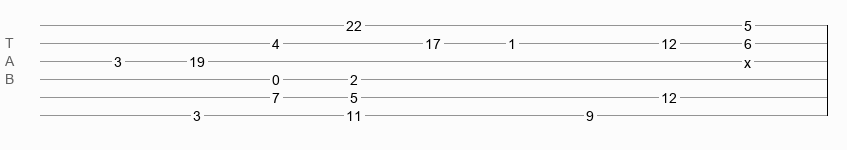0: (272, 72, 280, 82)
1: (508, 36, 516, 46)
11: (346, 108, 362, 118)
12: (661, 90, 677, 100), (661, 36, 677, 46)
17: (425, 36, 441, 46)
19: (189, 54, 205, 64)
2: (350, 72, 358, 82)
22: (346, 18, 362, 28)
3: (114, 54, 122, 64), (193, 108, 201, 118)
4: (272, 36, 280, 46)
5: (350, 90, 358, 100), (744, 18, 752, 28)
6: (744, 36, 752, 46)
7: (272, 90, 280, 100)
9: (586, 108, 594, 118)
x: (744, 55, 751, 63)
